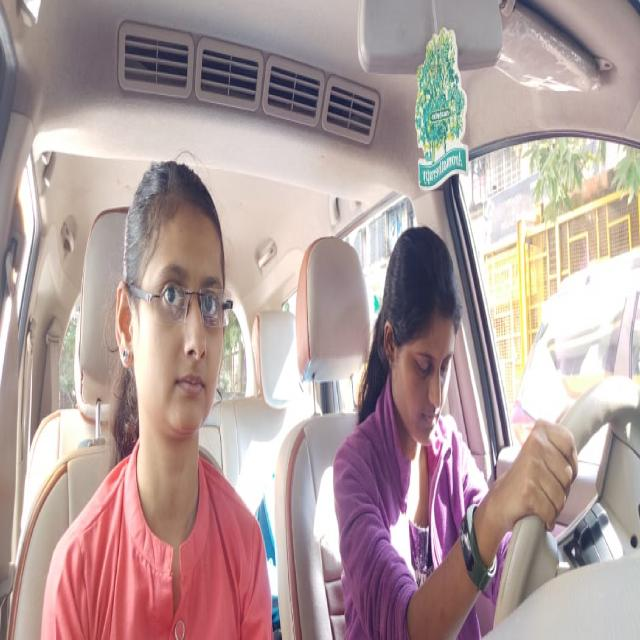drowsy: (377, 223, 460, 450)
person: (116, 150, 231, 434)
